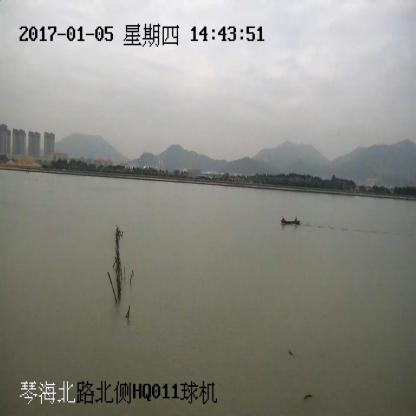Fishing Boat: (280, 215, 300, 226)
